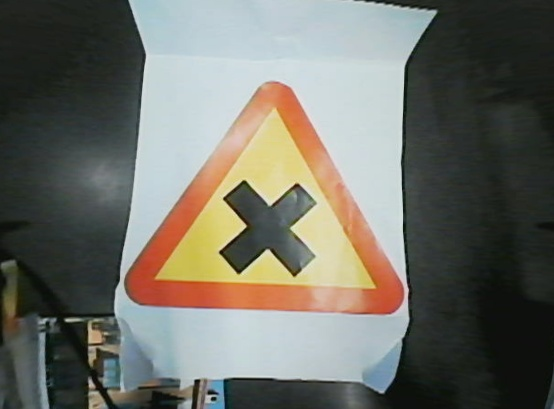junction: (131, 78, 410, 316)
